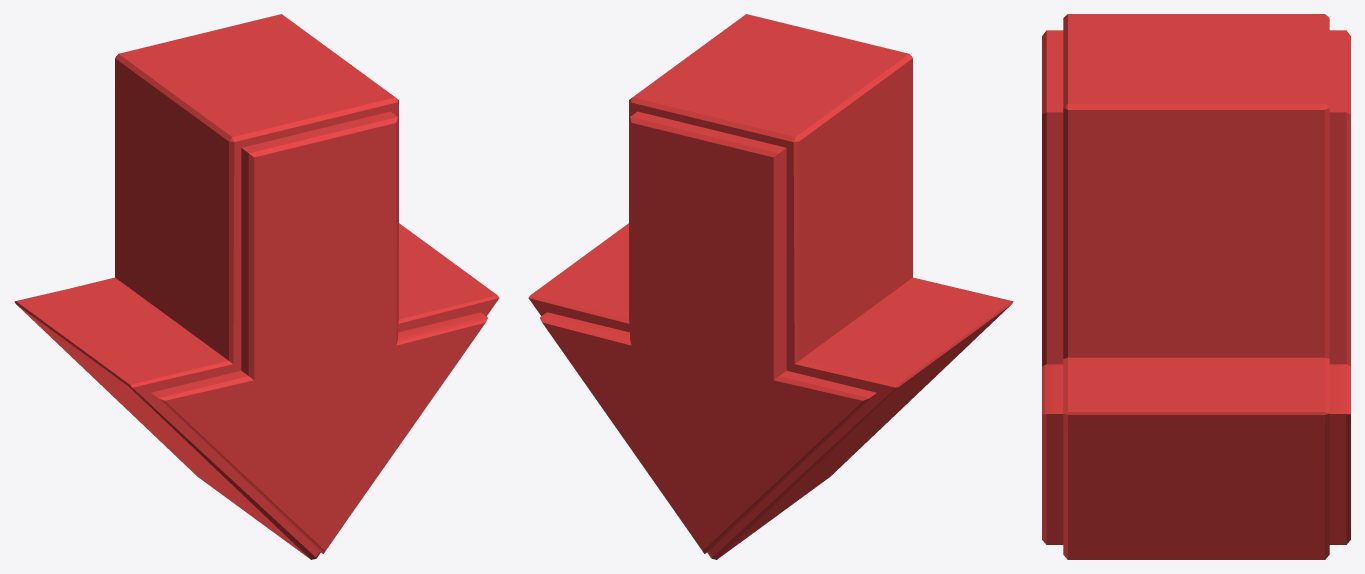
Rendered from Emitter.rouge.glb.
The picture shows the model from 3 angles, left to right: view 1: azimuth 30°, elevation 25°; view 2: azimuth 150°, elevation 25°; view 3: azimuth 270°, elevation 25°; orthographic projection. The views are drawn at different scales.
Parts seen in each view (by area): view 1: Emitter; view 2: Emitter; view 3: Emitter.
Part boxes in pixels (box(x1,y1,x2,y2)): Emitter: box(14, 14, 499, 559); Emitter: box(528, 14, 1013, 559); Emitter: box(1042, 14, 1350, 559).
Size of the model in its own units: 0.2145 by 0.2458 by 0.1377.
